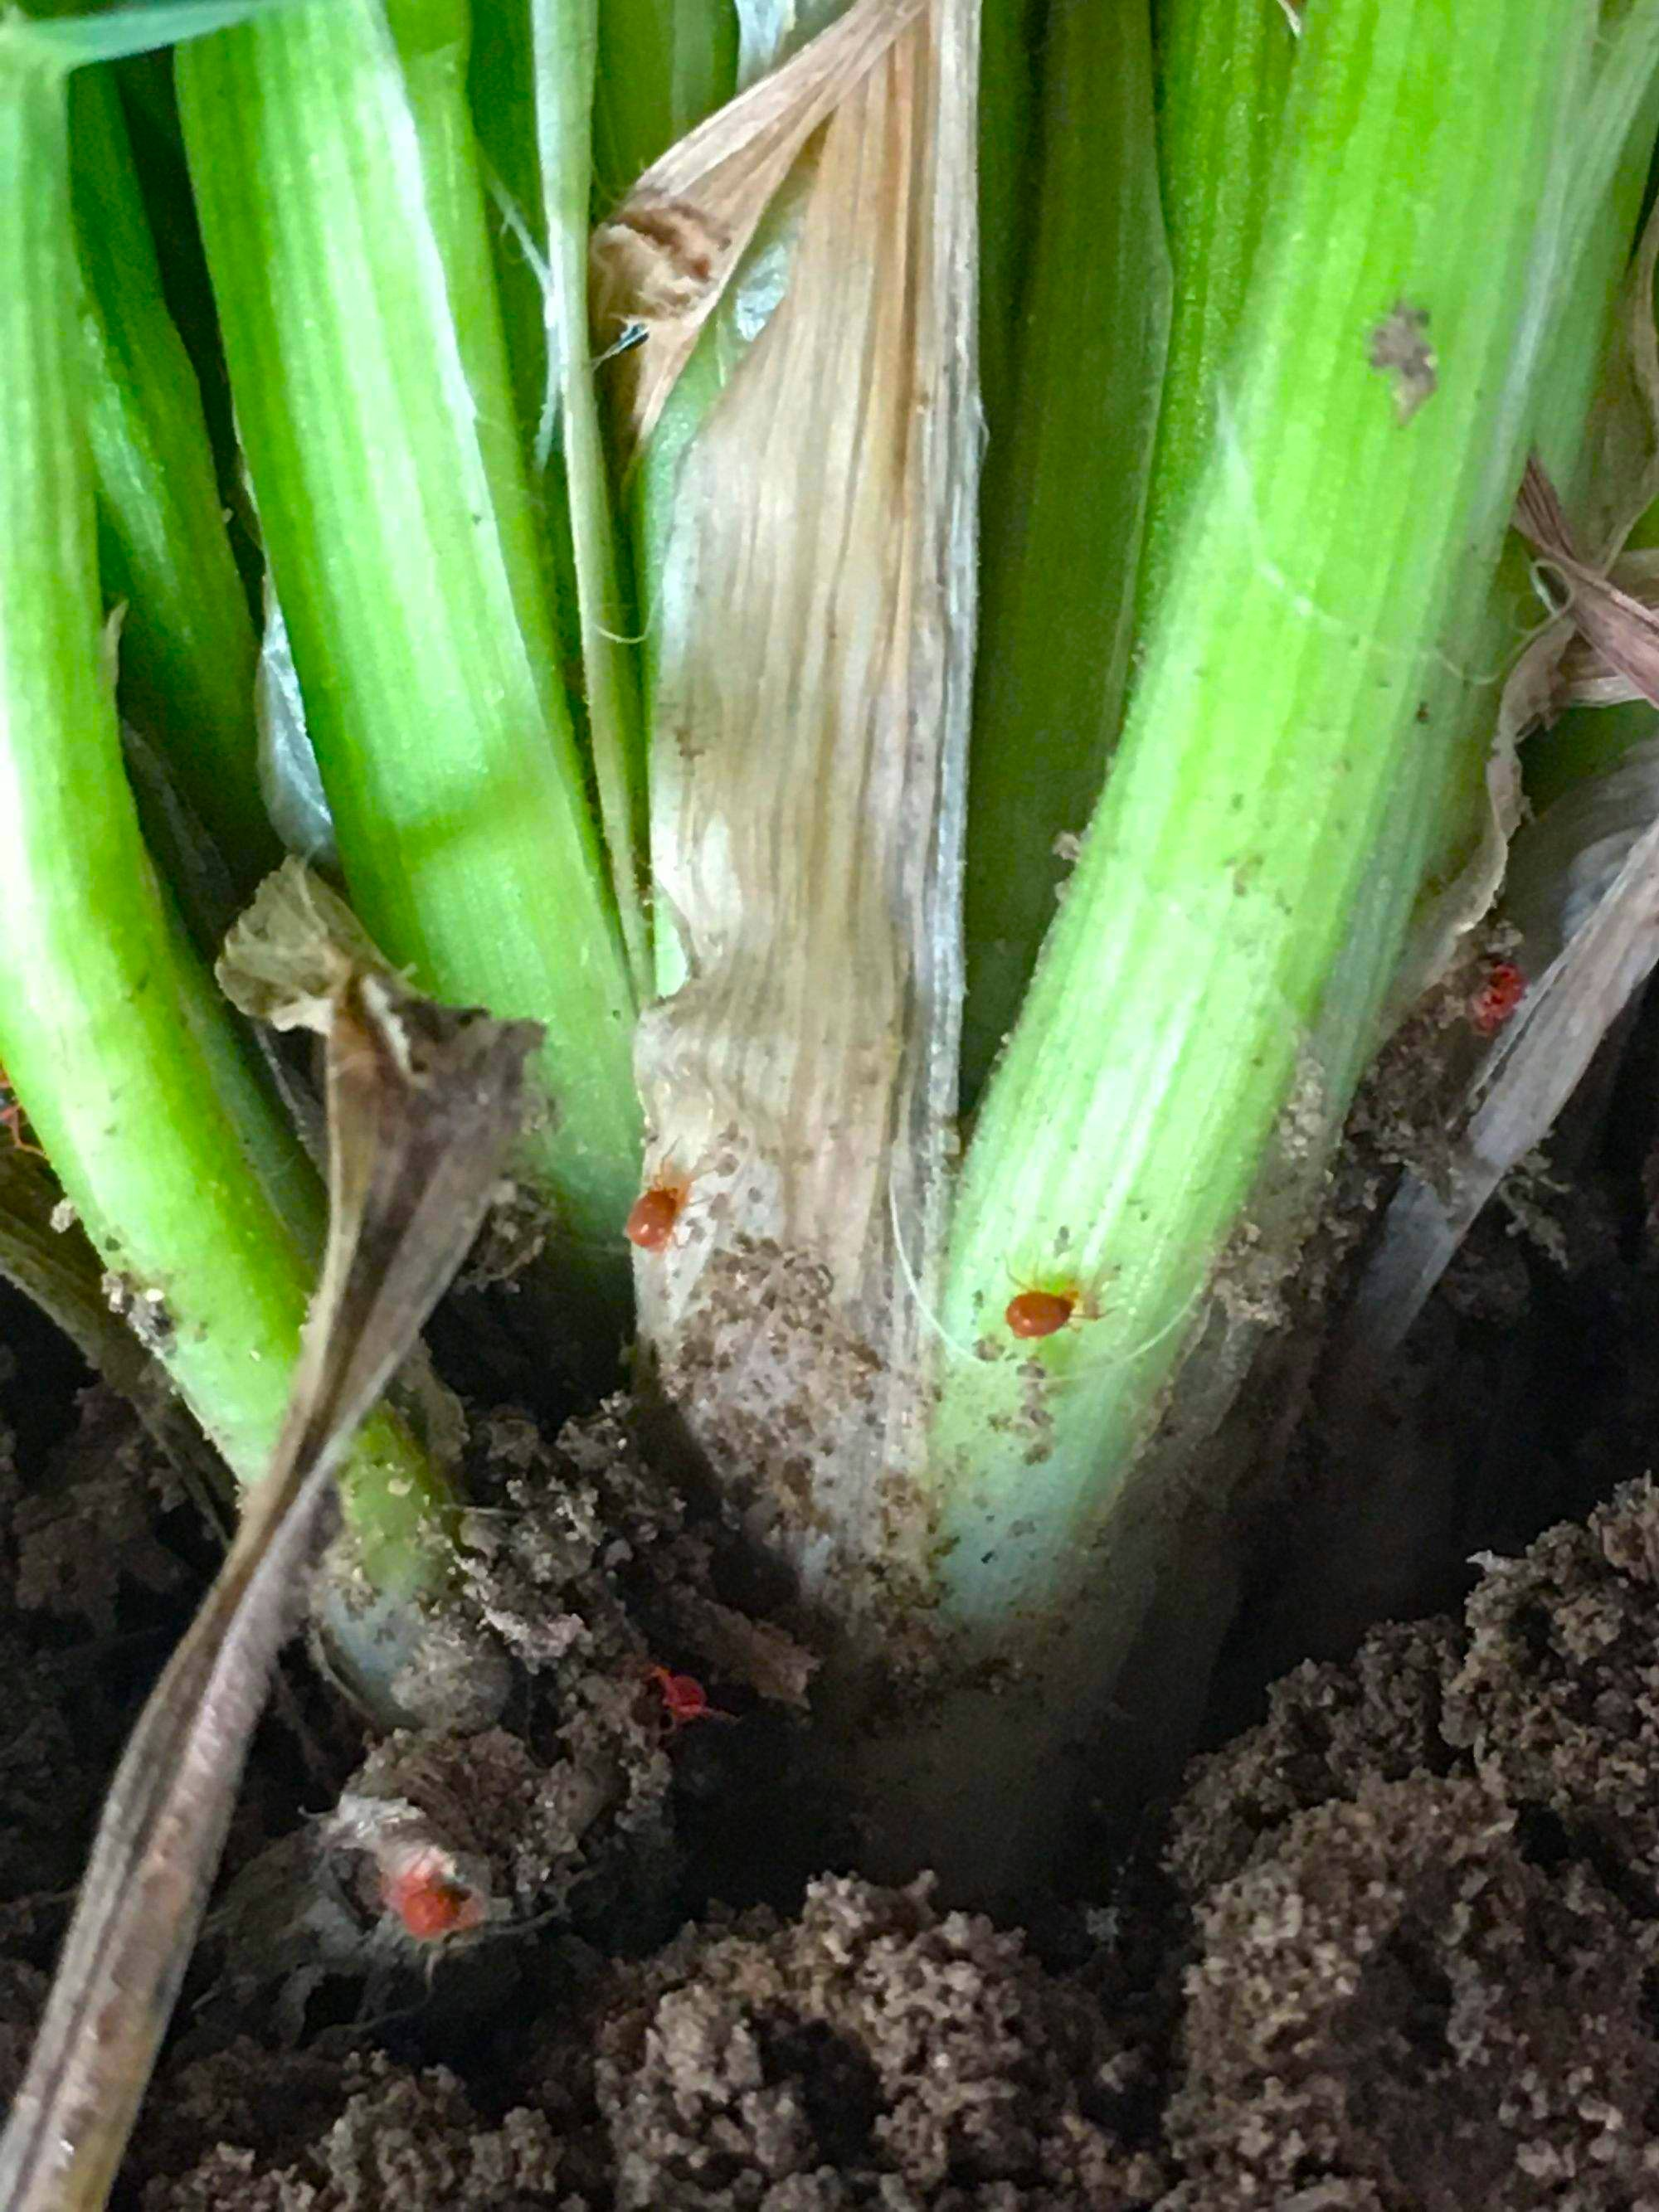Wheat Red Spider: (592, 1155, 730, 1289), (985, 1270, 1124, 1385)
